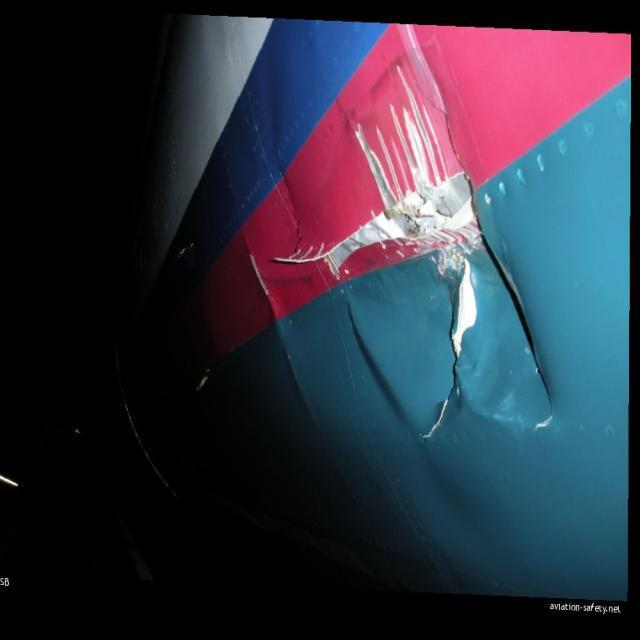crack: (416, 258, 479, 450)
dent: (349, 302, 409, 432), (475, 342, 517, 417), (481, 291, 511, 331)
